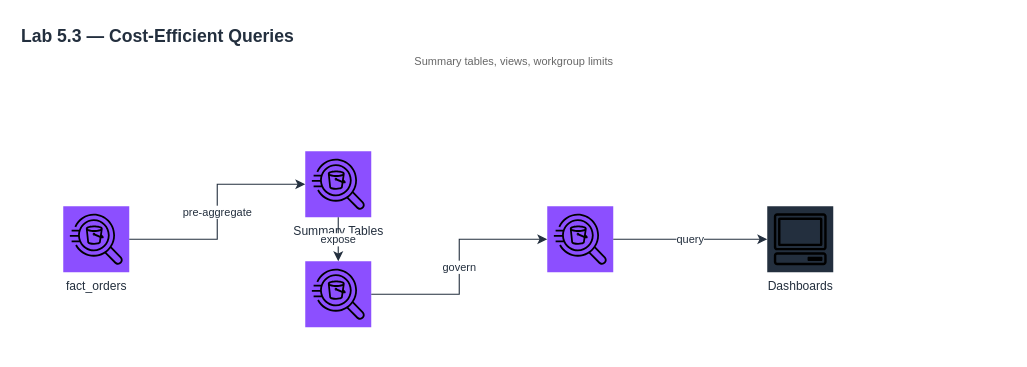
Some shapes in this 1027 by 367 pixel diagram are drawn without their labels. Here are the shapes that lost their labels. From the top down, the box of each, then its label:
(547, 206, 613, 272): Athena Workgroup scan limit
(305, 261, 371, 327): Analyst Views
